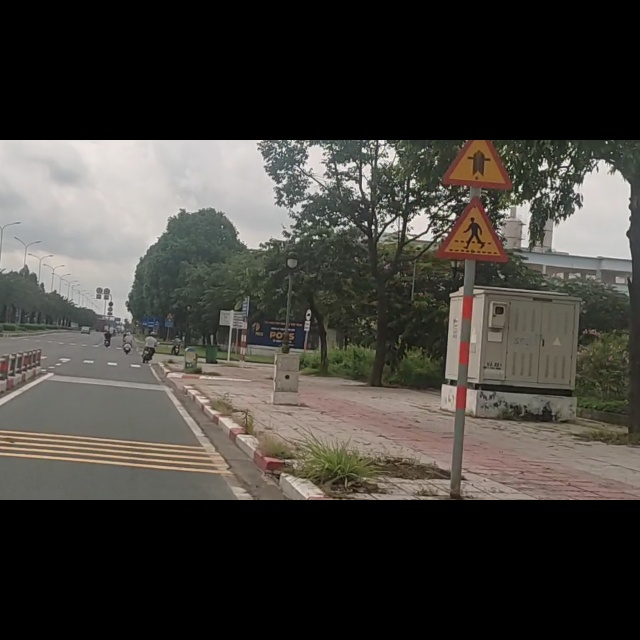Giao nhau với đường không ưu tiên: (442, 140, 512, 191)
Đường người đi bộ sang đường: (439, 195, 510, 263)
